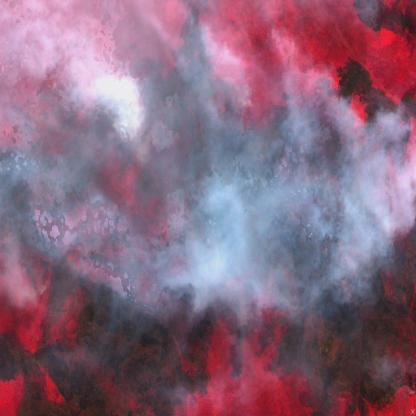fire: (6, 57, 147, 157), (222, 74, 254, 124), (26, 258, 58, 299)
